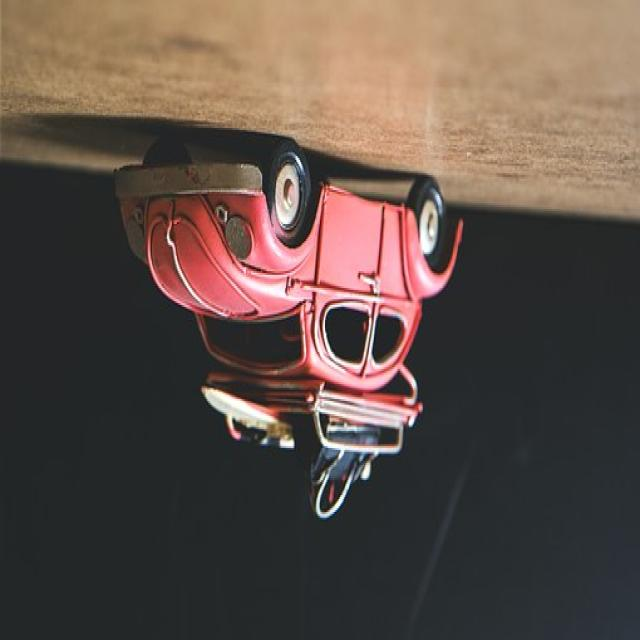Car: (112, 136, 464, 522)
